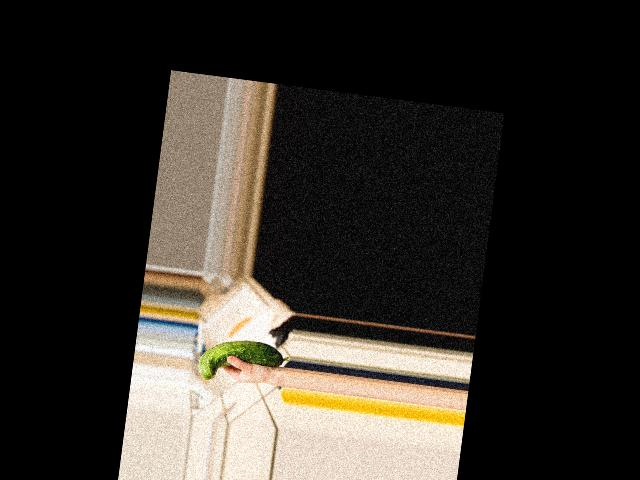cucumber: (196, 333, 291, 389)
